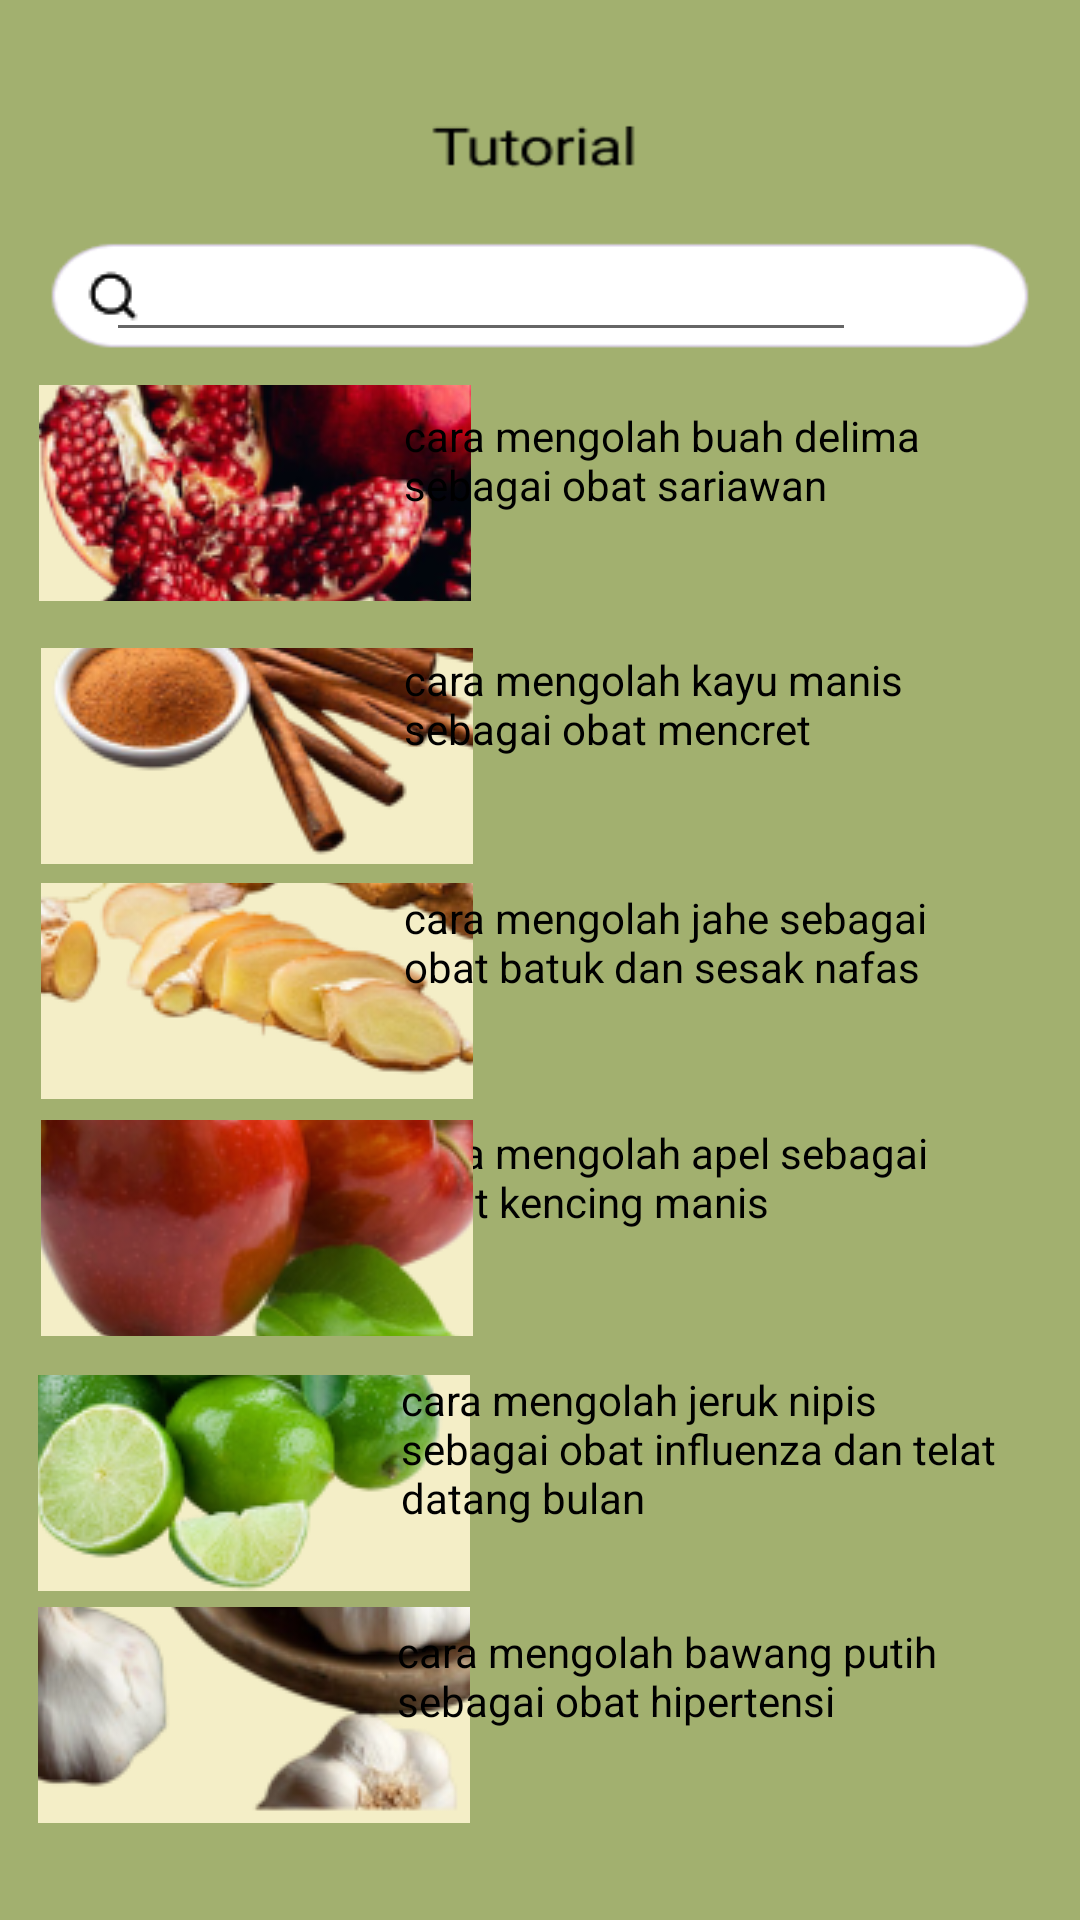

Where icons sit on this 1080*1920 app screen, as (x1, y1, x2, y2):
search: (88, 271, 138, 321)
